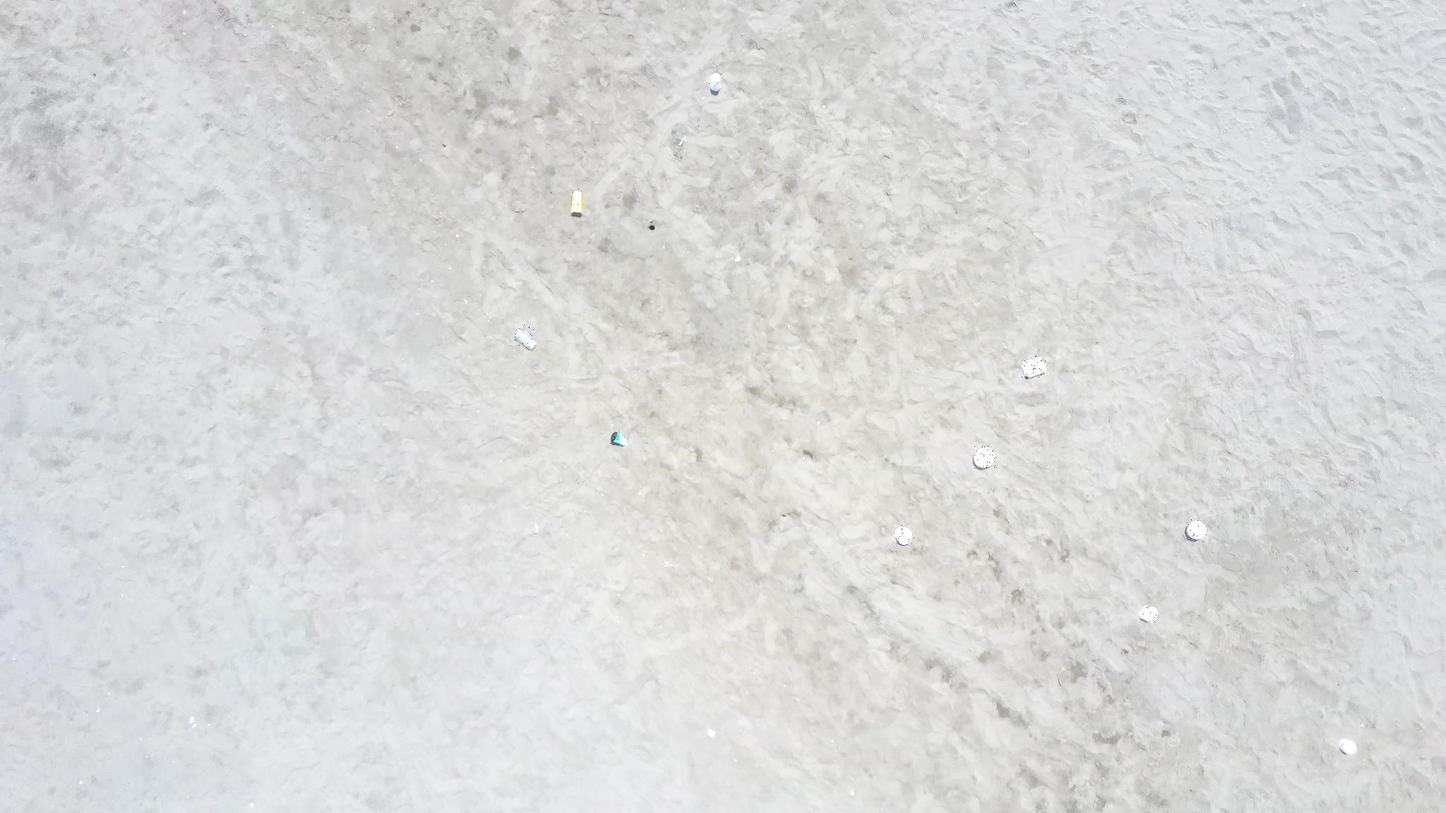Garbage: (513, 325, 535, 350), (1020, 357, 1045, 378), (972, 447, 995, 469), (1185, 521, 1207, 541), (1139, 605, 1159, 622), (894, 525, 911, 545), (570, 191, 582, 216), (708, 71, 720, 95), (1338, 740, 1356, 755), (611, 430, 630, 444), (511, 202, 525, 212), (676, 135, 687, 147), (707, 728, 715, 737), (647, 222, 655, 230), (734, 254, 740, 263)
